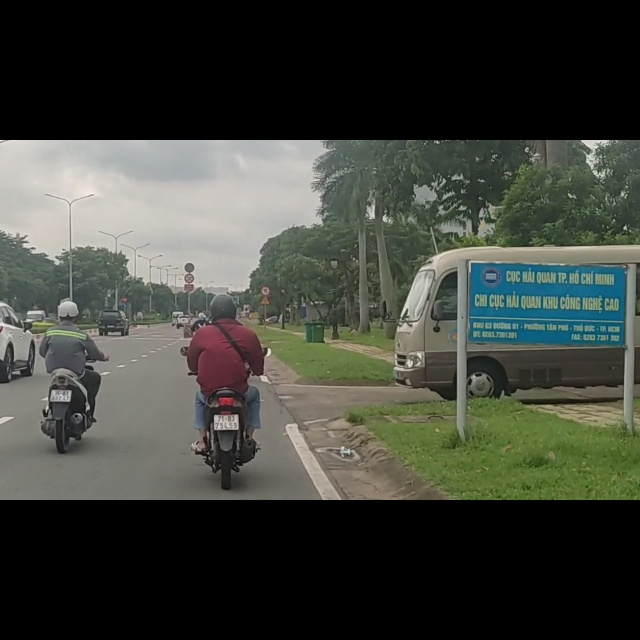bien_nguy_hiem: (184, 218, 195, 236), (184, 237, 195, 255), (260, 277, 271, 294), (261, 260, 271, 276), (121, 277, 129, 289), (121, 289, 129, 299)
